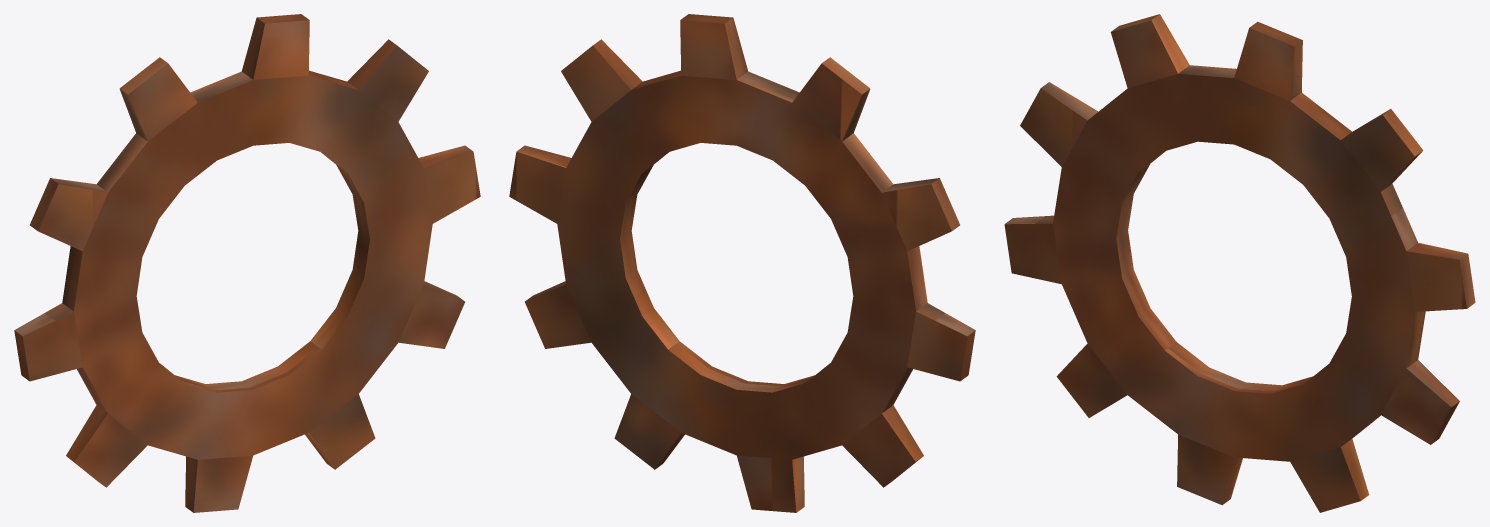
The model's file is haguruma.obj.
The picture shows the model from 3 angles, left to right: view 1: azimuth 30°, elevation 25°; view 2: azimuth 150°, elevation 25°; view 3: azimuth 330°, elevation 25°; orthographic projection.
Visible parts, largest first — view 1: pasted__pTorus4 group; view 2: pasted__pTorus4 group; view 3: pasted__pTorus4 group.
Boxes of the visible parts, left/top/right/bottom form: pasted__pTorus4 group: left=14, top=14, right=480, bottom=512; pasted__pTorus4 group: left=509, top=14, right=975, bottom=512; pasted__pTorus4 group: left=1004, top=14, right=1475, bottom=512.
Bounding box in the file's own units: 5.51 × 5.51 × 0.2422.
Materials: 1 (1 with a texture image).
